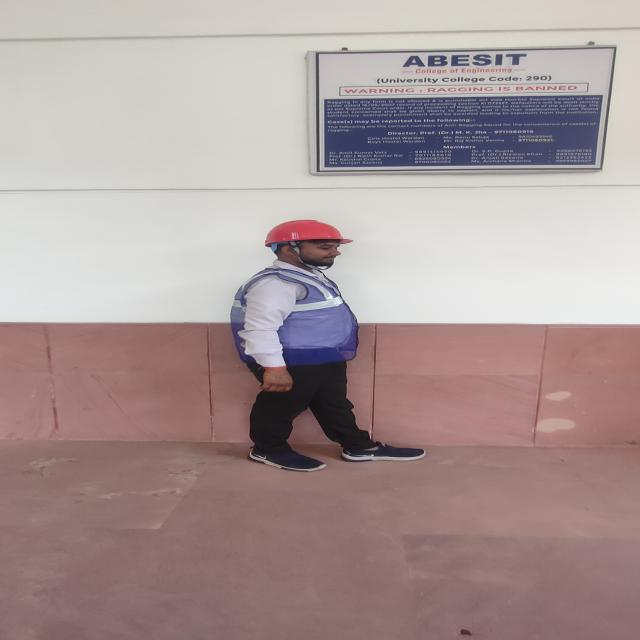safe: (230, 220, 359, 470)
